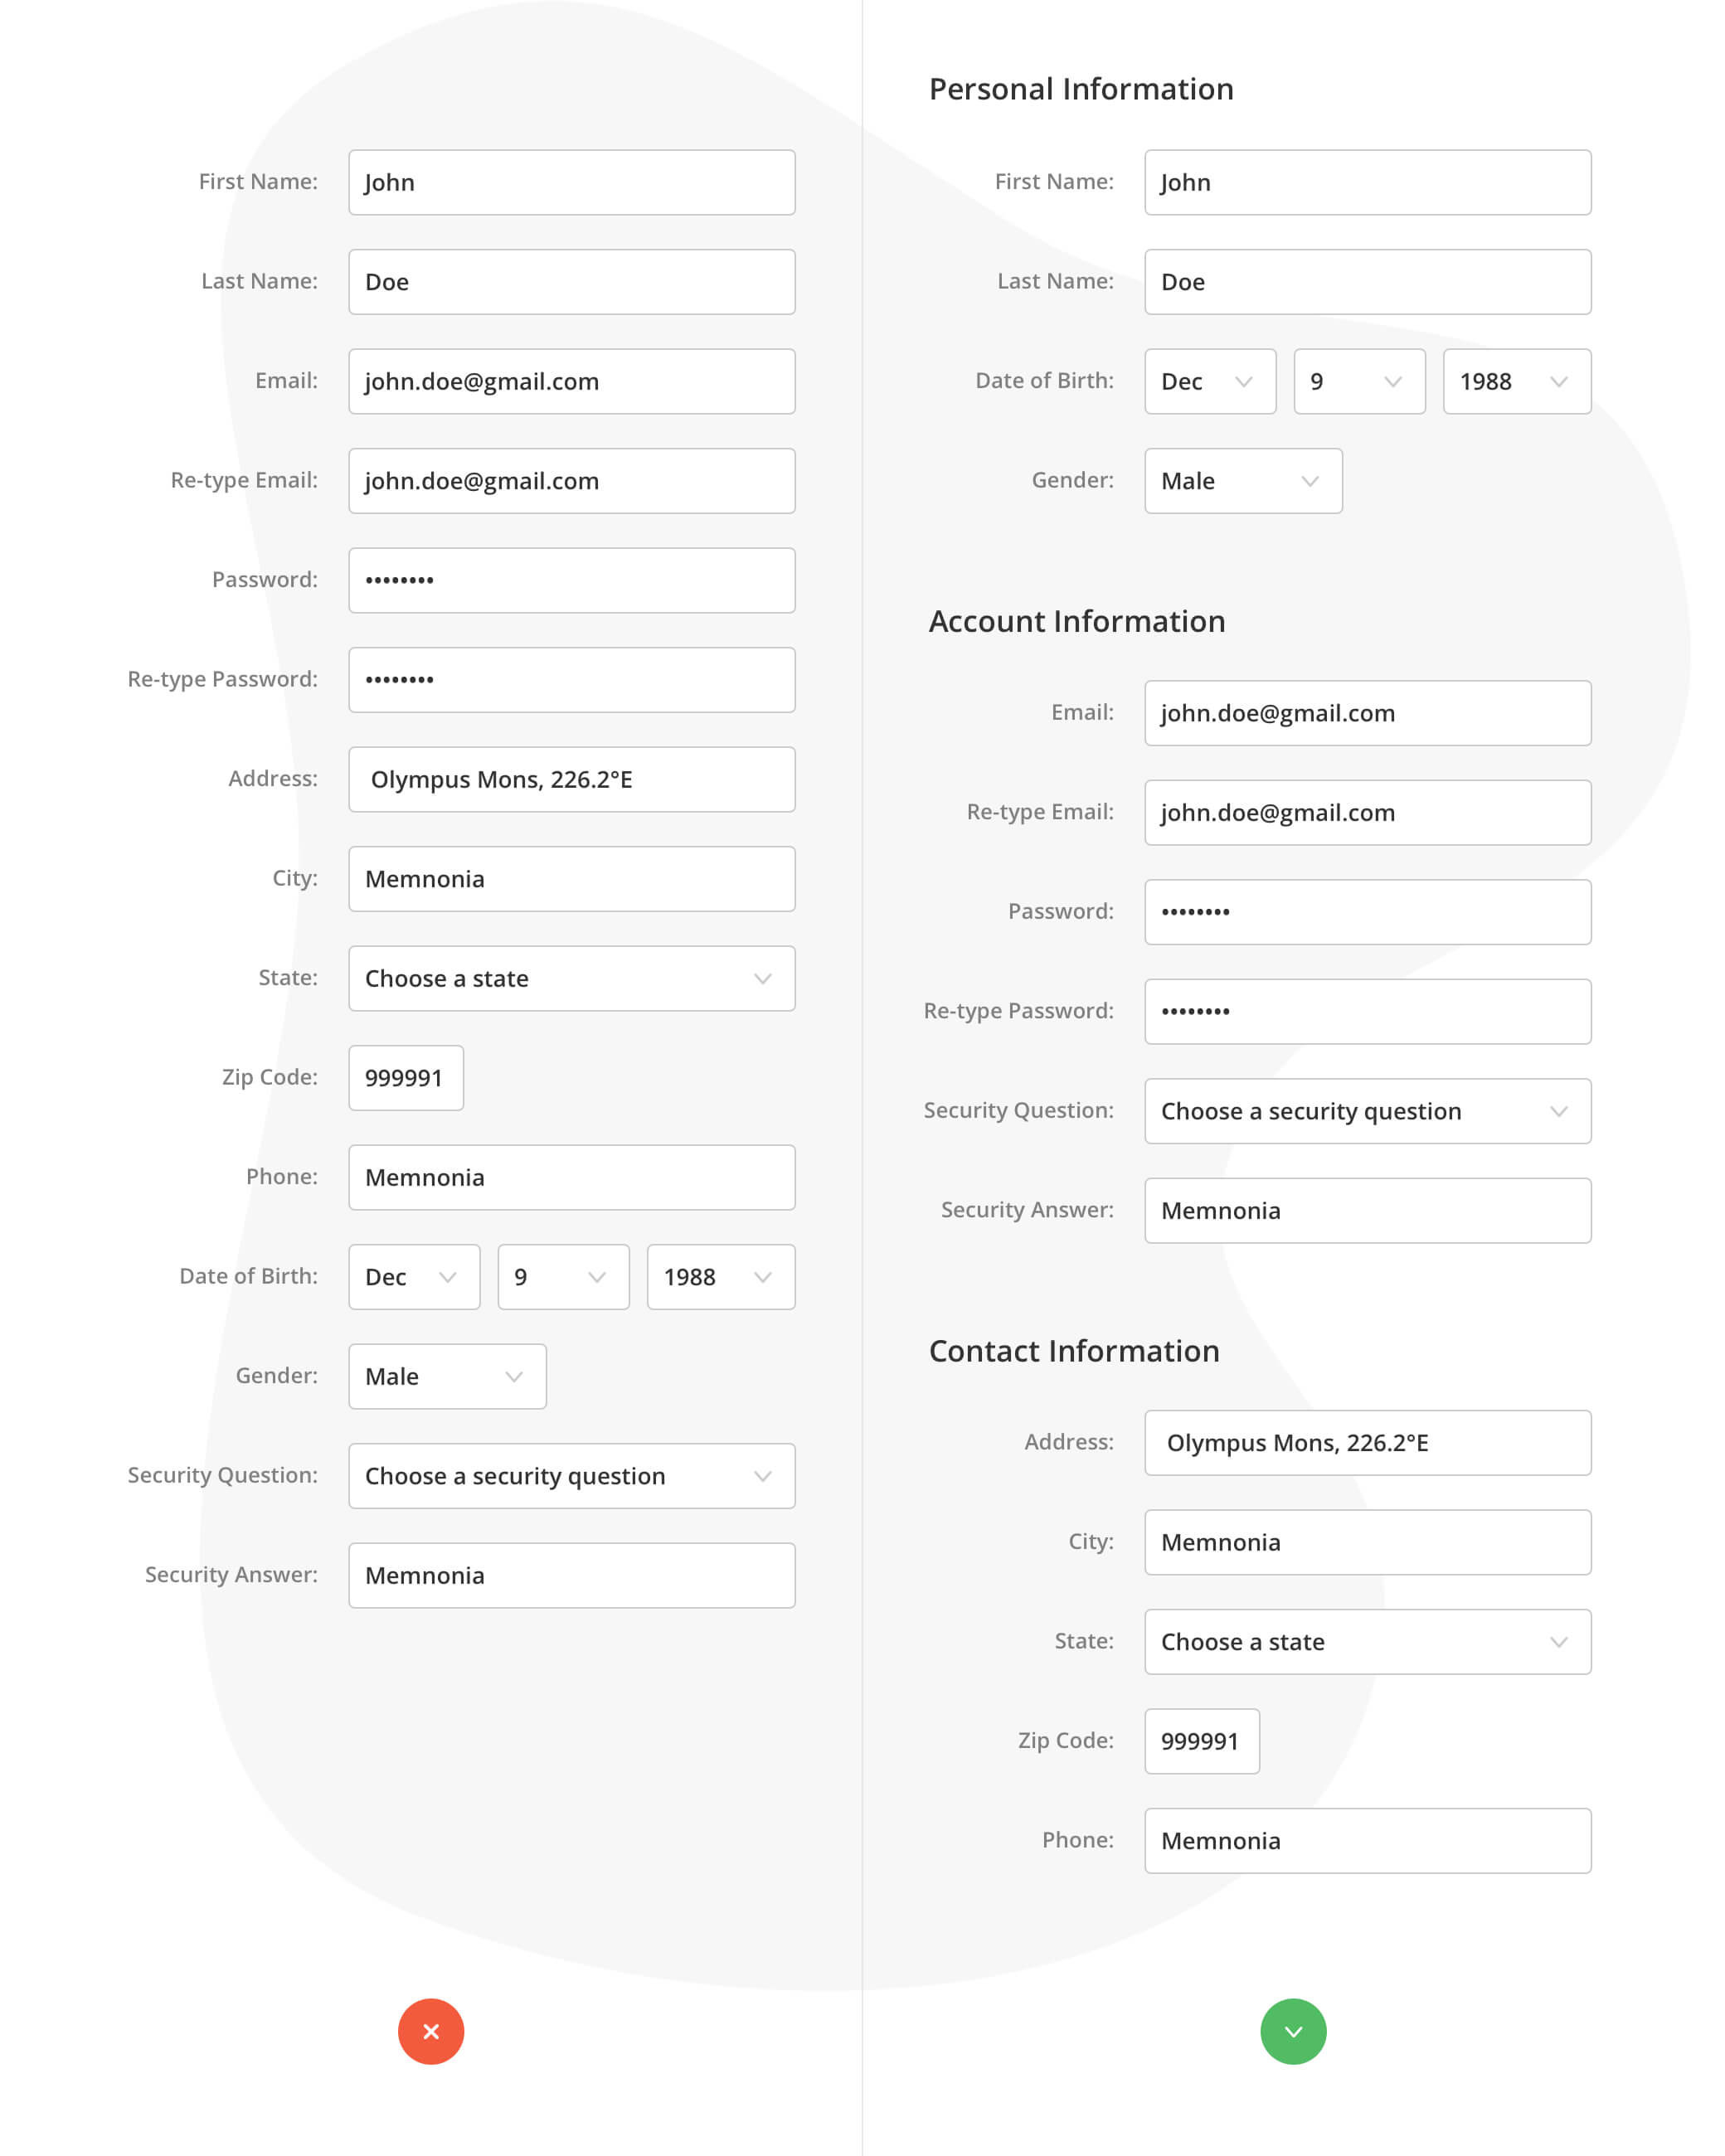_form_: (910, 861, 1604, 1255), (114, 1236, 811, 1626), (120, 533, 811, 924), (936, 565, 1602, 959), (954, 136, 1614, 532), (160, 137, 818, 530), (169, 931, 813, 1324), (968, 1297, 1607, 1688), (977, 1491, 1616, 1881)
field: (341, 544, 797, 616), (341, 642, 797, 715), (341, 347, 797, 417), (341, 445, 797, 516), (341, 1538, 797, 1609), (341, 843, 796, 913), (1141, 678, 1595, 748), (1139, 246, 1591, 317), (1137, 876, 1595, 945), (343, 150, 799, 218), (1139, 148, 1595, 216), (1137, 778, 1593, 847), (1137, 1176, 1593, 1244), (347, 248, 797, 317), (1135, 1808, 1595, 1874), (1137, 977, 1595, 1044), (340, 746, 796, 813), (1141, 1508, 1595, 1575), (343, 1144, 794, 1211), (1137, 1410, 1595, 1475), (343, 1042, 461, 1112), (1139, 1707, 1259, 1776)
field_with_label: (130, 639, 804, 720), (942, 1170, 1595, 1250), (922, 973, 1598, 1049), (922, 1072, 1597, 1148), (146, 1536, 804, 1614), (172, 438, 804, 517), (128, 1440, 796, 1514), (965, 773, 1595, 850), (996, 241, 1595, 322), (201, 243, 804, 322), (197, 144, 801, 222), (993, 144, 1597, 222), (215, 539, 804, 618), (1005, 873, 1598, 950), (1047, 672, 1597, 752), (229, 743, 799, 818), (1021, 1406, 1597, 1480), (257, 343, 799, 421), (273, 840, 801, 919), (246, 1140, 796, 1216), (1046, 1802, 1602, 1876), (1056, 1607, 1600, 1681), (259, 938, 801, 1012), (1070, 1507, 1598, 1580), (972, 343, 1287, 422), (231, 1338, 554, 1413), (1030, 444, 1352, 519), (187, 1241, 489, 1318), (224, 1037, 466, 1116), (1019, 1704, 1266, 1781)
select: (1142, 1077, 1593, 1146), (1142, 1610, 1595, 1676), (347, 945, 797, 1010), (347, 1445, 794, 1508), (345, 1343, 549, 1412), (1144, 447, 1345, 516), (1440, 347, 1593, 417), (646, 1246, 796, 1311), (495, 1244, 634, 1313), (1142, 348, 1280, 417), (1292, 347, 1426, 417), (345, 1246, 482, 1311)
